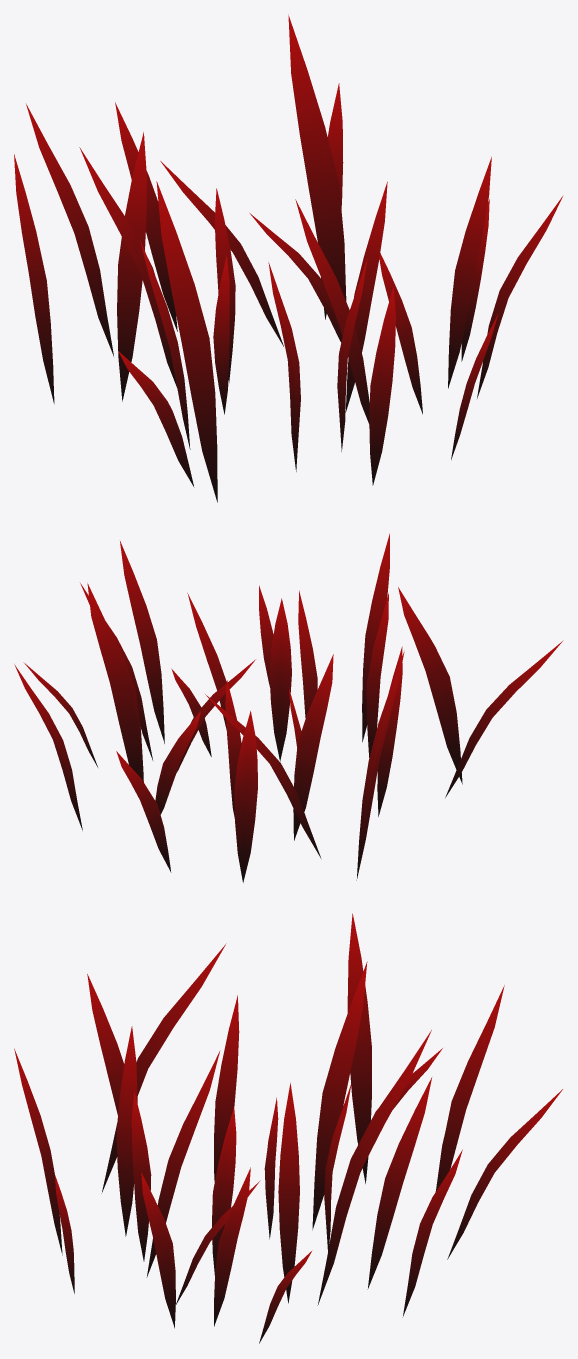
File: Grass.fbx
3 renders of one model, top to bottom at view 1: azimuth 30°, elevation 25°; view 2: azimuth 150°, elevation 25°; view 3: azimuth 270°, elevation 25°, orthographic. The views are drawn at different scales.
Parts seen in each view (by area): view 1: Grass; view 2: Grass; view 3: Grass.
Boxes of the visible parts, x1,y1,x2,y2 form: Grass: (14,14,563,502); Grass: (14,533,563,882); Grass: (14,913,562,1343).
Bounding box in the file's own units: 2.37 × 1.38 × 2.46.
